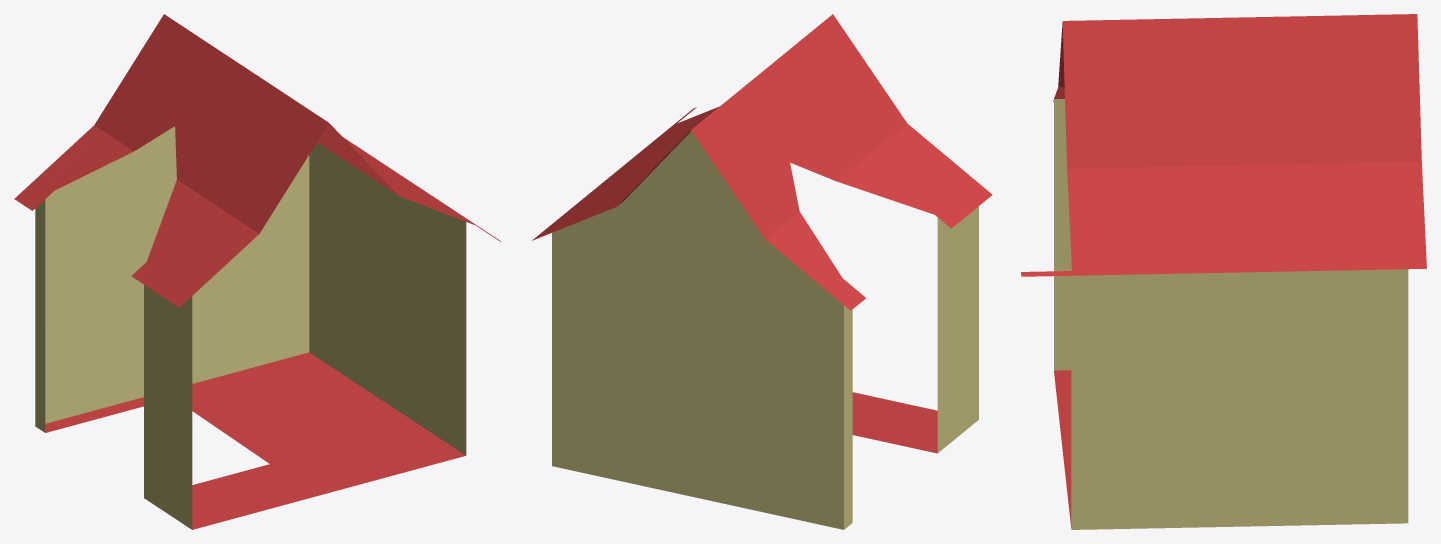
3 renders of one model, left to right at view 1: azimuth 30°, elevation 25°; view 2: azimuth 150°, elevation 25°; view 3: azimuth 270°, elevation 25°, orthographic. The views are drawn at different scales.
Size of the model in its own units: 12.13 by 11.41 by 13.32.
